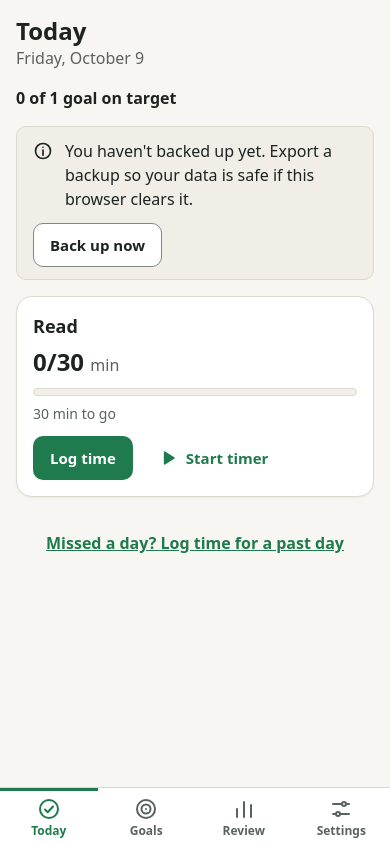
Test: Today — M5-AC13 (entry order, pendingTimer), M3-D4, M5-AC6 › M5-AC6: a StorageError while saving an entry shows the inline message and keeps the typed values
Click the button "Log time" at (83, 458), box [33,436,133,480]
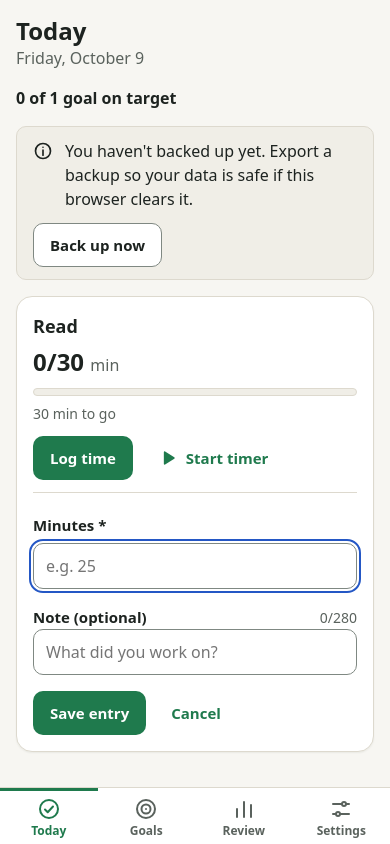
Type "20" into the field labelled "Minutes *" at (195, 566), box [33,543,357,589]
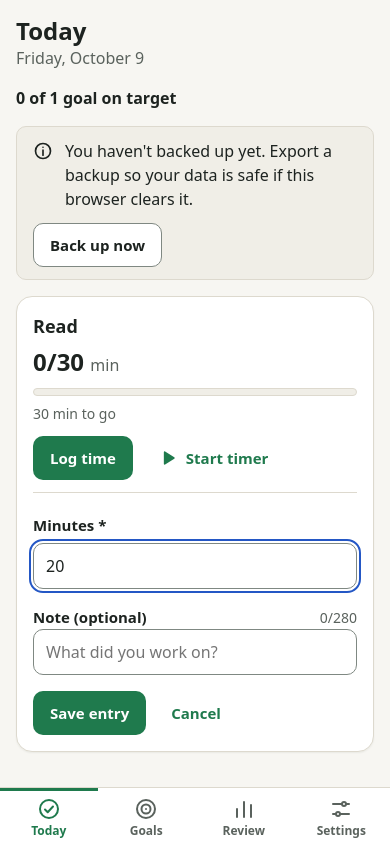
Type "Ch. 3" into the field labelled "Note (optional)" at (195, 652), box [33,629,357,675]
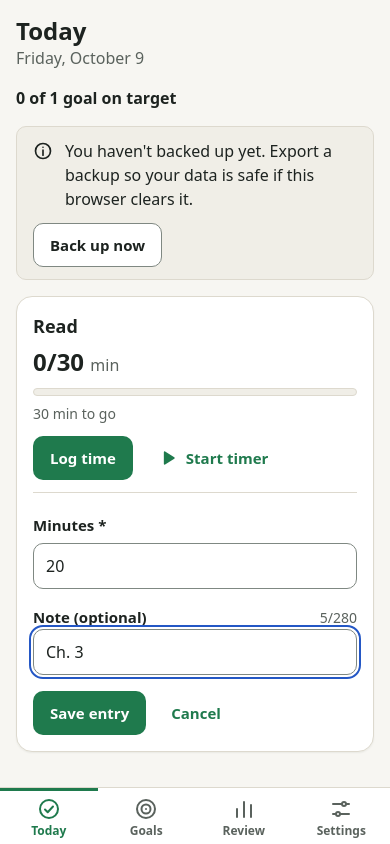
Click the button "Save entry" at (90, 713), box [33,691,146,735]
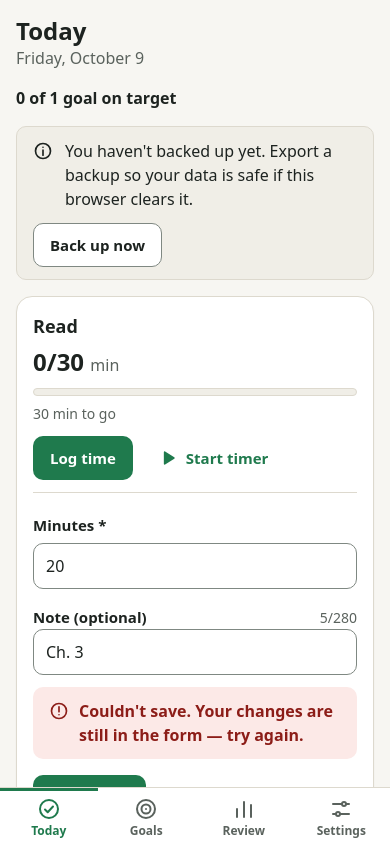
Expected: the text "0/30" is shown, [33,345,84,378]
Expected: the message reads "Couldn't save. Your changes are still in the form — try again.", [79,700,333,746]
